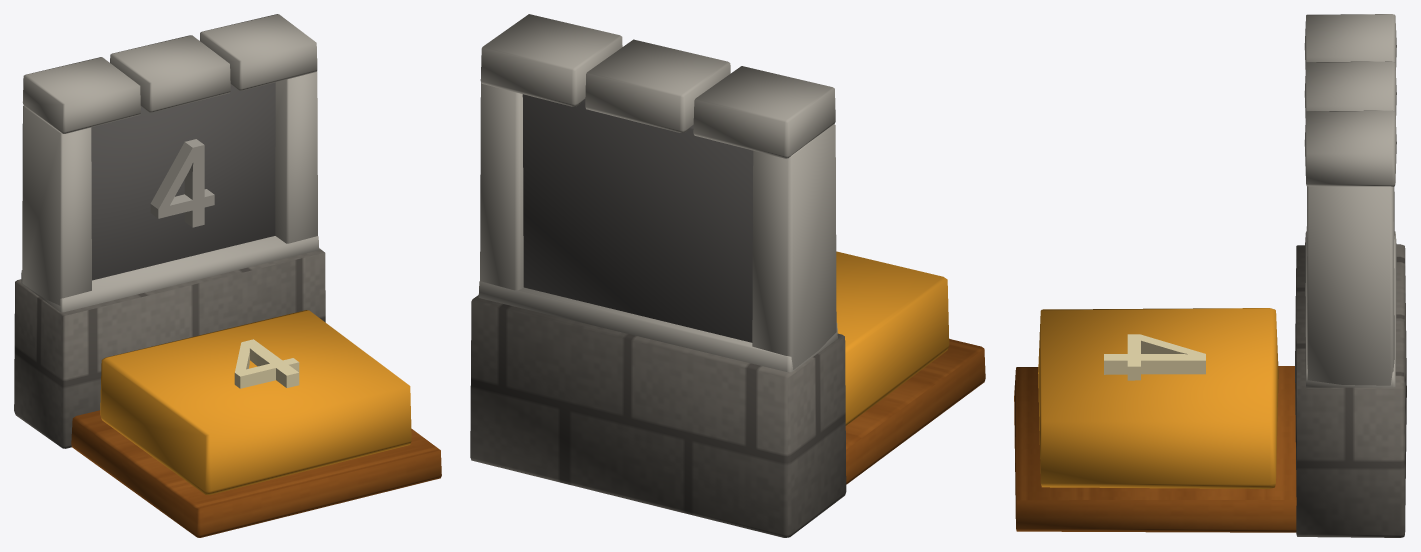
Rendered from 35_array_tile_4.glb.
3 views of the same model, side by side, from view 1: azimuth 30°, elevation 25°; view 2: azimuth 150°, elevation 25°; view 3: azimuth 270°, elevation 25° (orthographic). The views are drawn at different scales.
Visible parts, largest first — view 1: GoldBlock, WallBackPanel, WallPlinth, TileBase, WallPillar_-1, WallPillar_1, WallTopCap_0, WallTopCap_1, WallSill, WallTopCap_2, WallDigit, TileDigit; view 2: WallPlinth, WallBackPanel, WallPillar_-1, GoldBlock, WallTopCap_0, WallTopCap_1, WallPillar_1, WallTopCap_2, TileBase, WallSill; view 3: GoldBlock, WallPlinth, TileBase, WallPillar_1, WallTopCap_2, WallTopCap_1, WallTopCap_0, TileDigit, WallSill.
Boxes of the visible parts, x1,y1,x2,y2 form: GoldBlock: [100, 310, 411, 494]; WallBackPanel: [91, 82, 275, 280]; WallPlinth: [14, 248, 325, 448]; TileBase: [71, 410, 441, 537]; WallPillar_-1: [22, 105, 91, 305]; WallPillar_1: [275, 71, 317, 243]; WallTopCap_0: [22, 57, 140, 133]; WallTopCap_1: [110, 35, 230, 112]; WallSill: [21, 236, 319, 312]; WallTopCap_2: [200, 14, 317, 90]; WallDigit: [150, 139, 214, 227]; TileDigit: [234, 339, 299, 388]; WallPlinth: [470, 295, 846, 537]; WallBackPanel: [522, 94, 753, 342]; WallPillar_-1: [752, 124, 836, 369]; GoldBlock: [836, 251, 949, 425]; WallTopCap_0: [693, 66, 835, 158]; WallTopCap_1: [585, 39, 730, 132]; WallPillar_1: [480, 82, 523, 290]; WallTopCap_2: [480, 14, 622, 106]; TileBase: [845, 339, 985, 484]; WallSill: [478, 281, 837, 372]; GoldBlock: [1038, 308, 1278, 488]; WallPlinth: [1295, 244, 1406, 537]; TileBase: [1014, 366, 1296, 532]; WallPillar_1: [1306, 186, 1394, 385]; WallTopCap_2: [1304, 110, 1396, 186]; WallTopCap_1: [1304, 61, 1396, 119]; WallTopCap_0: [1304, 14, 1396, 70]; TileDigit: [1104, 334, 1205, 380]; WallSill: [1305, 231, 1396, 387].
Size of the model in its own units: 0.86 by 1.06 by 0.98.
Materials: 6 (2 with a texture image).
